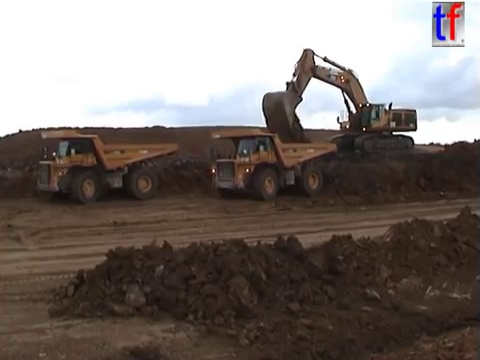excavator: (260, 47, 419, 156)
truck: (34, 130, 180, 204), (207, 125, 339, 201)
